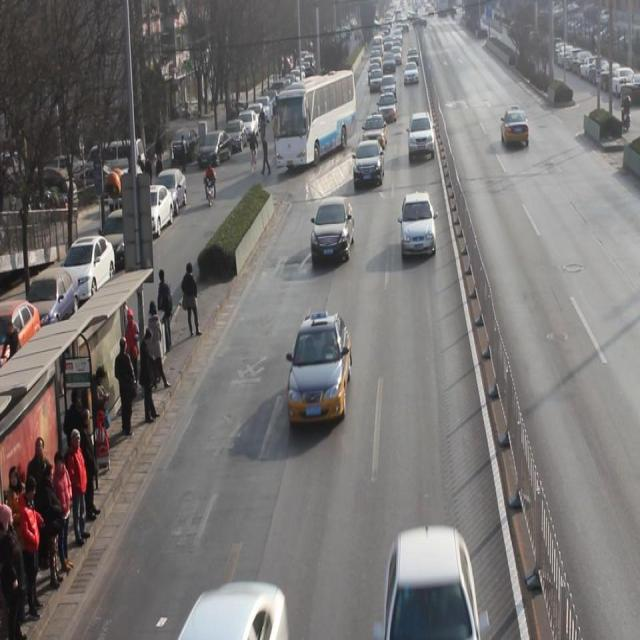car: (287, 314, 352, 426), (312, 196, 356, 267), (400, 193, 436, 259), (353, 141, 385, 190), (408, 111, 436, 164), (500, 110, 530, 150), (363, 114, 388, 152), (377, 92, 398, 124)
van: (276, 76, 355, 168)
